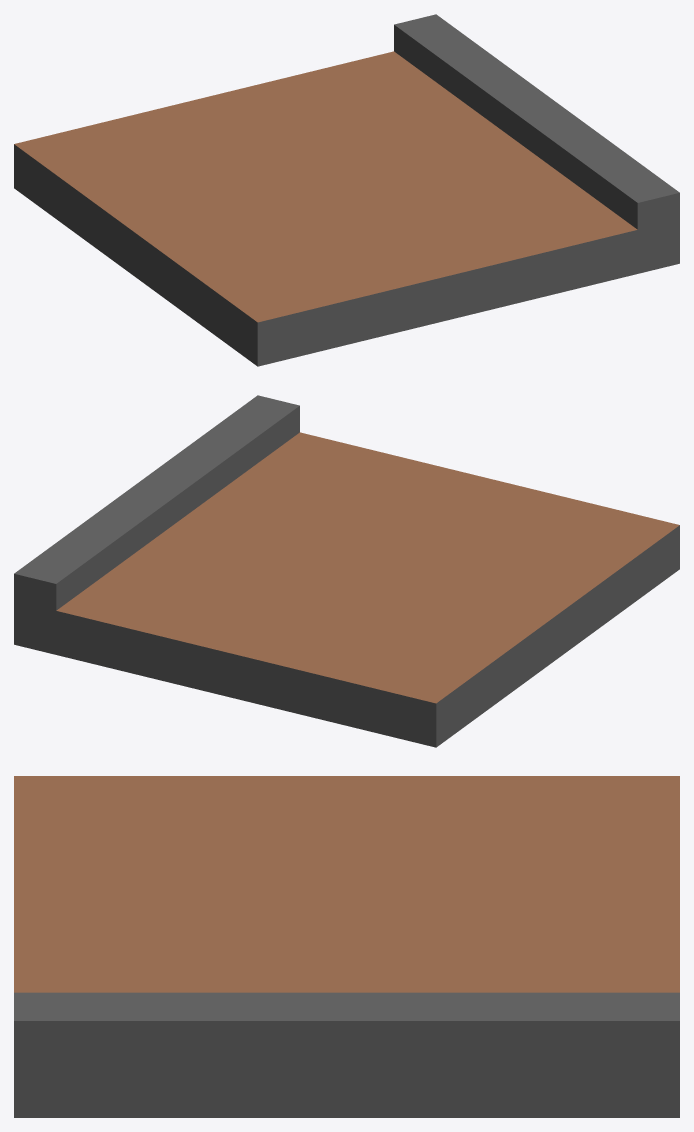
Rendered from road_oneside.fbx.
The picture shows the model from 3 angles, top to bottom: view 1: azimuth 30°, elevation 25°; view 2: azimuth 150°, elevation 25°; view 3: azimuth 270°, elevation 25°; orthographic projection. The views are drawn at different scales.
Visible parts, largest first — view 1: Cube.003; view 2: Cube.003; view 3: Cube.003.
Boxes of the visible parts, x1,y1,x2,y2 form: Cube.003: [14, 14, 679, 366]; Cube.003: [14, 395, 679, 747]; Cube.003: [14, 776, 679, 1117].
Bounding box in the file's own units: 100 × 16.06 × 100.
